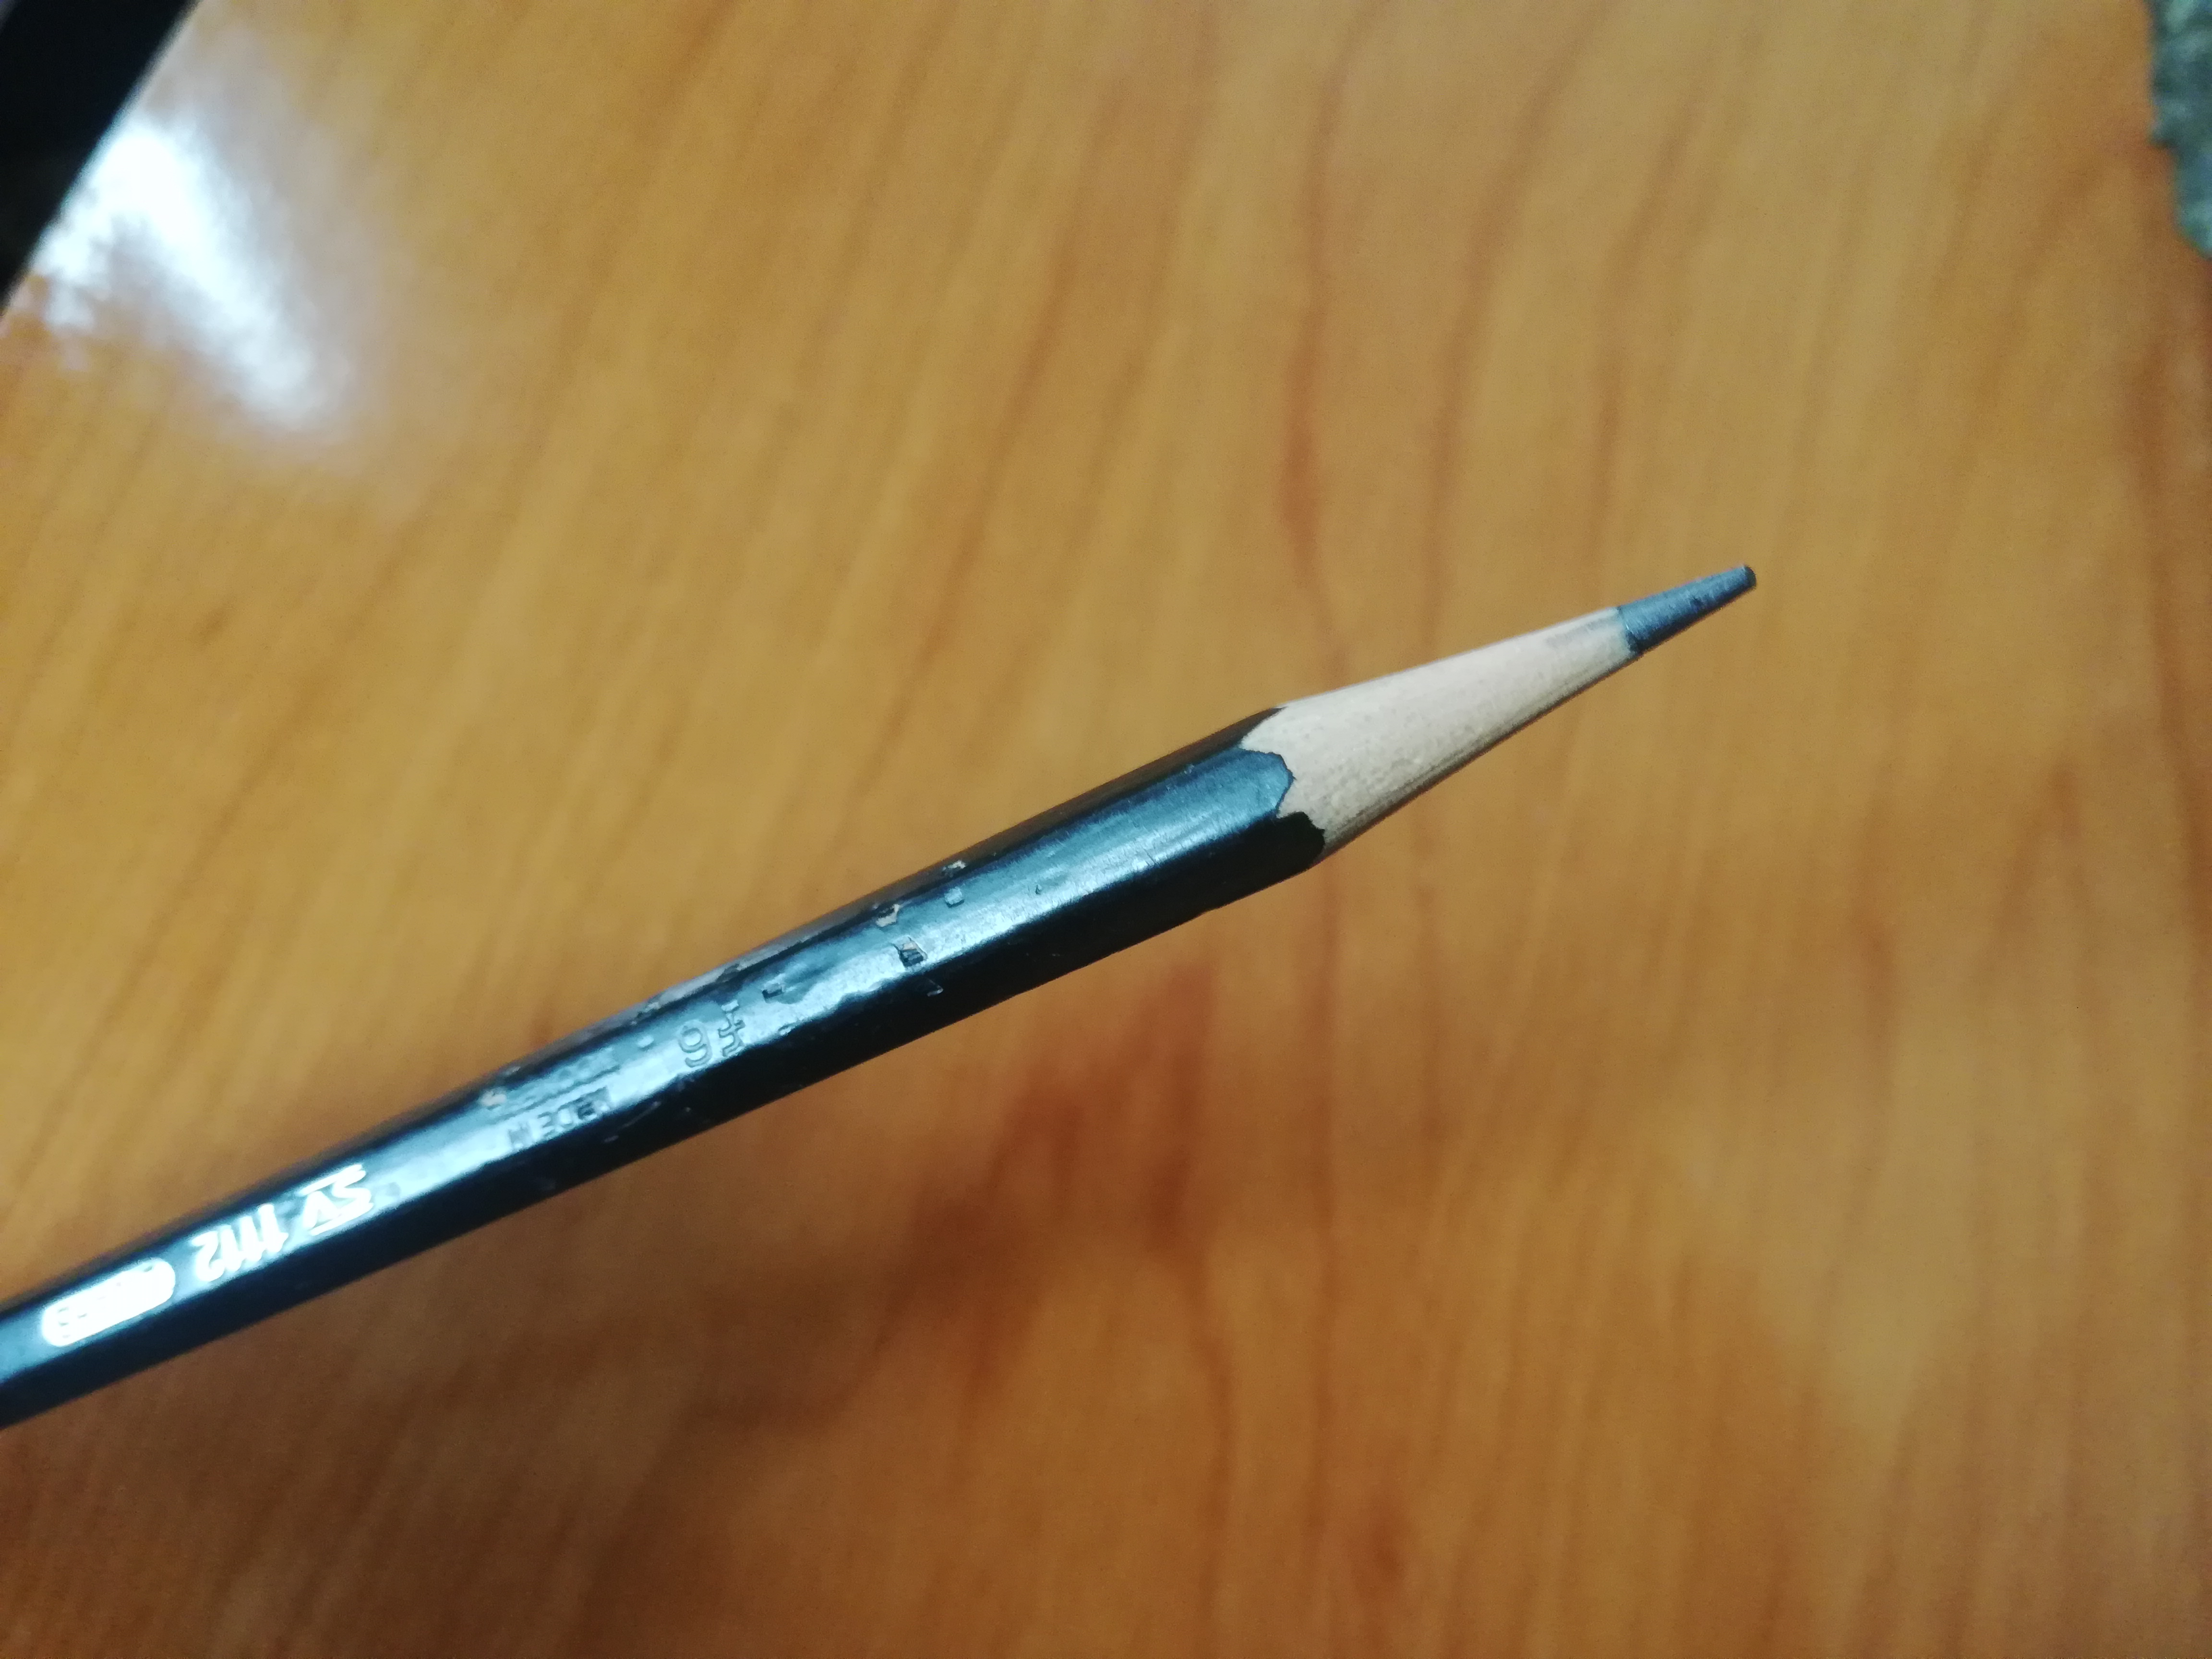pen_tip: (1136, 455, 1839, 925)
